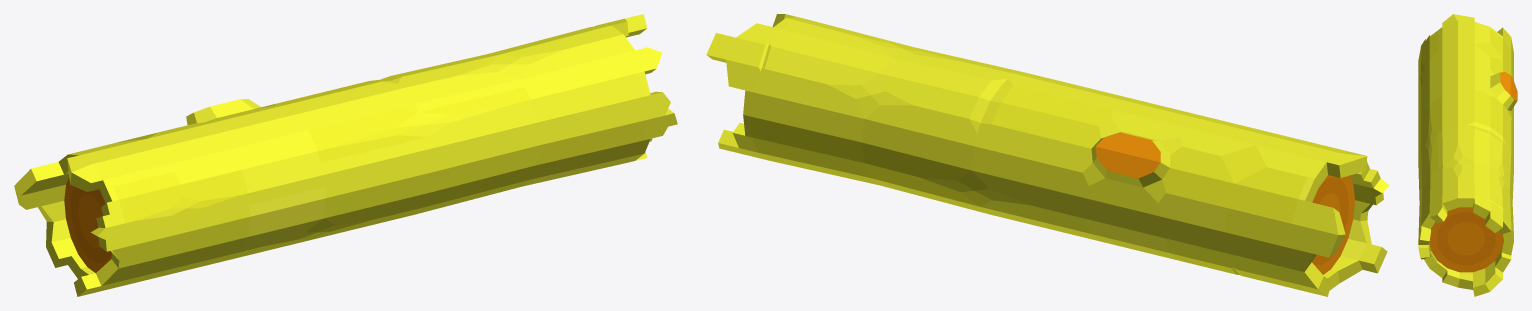
File: Log_12.fbx
3 renders of one model, left to right at view 1: azimuth 30°, elevation 25°; view 2: azimuth 150°, elevation 25°; view 3: azimuth 270°, elevation 25°, orthographic. The views are drawn at different scales.
Parts seen in each view (by area): view 1: Circle.296; view 2: Circle.296; view 3: Circle.296.
Boxes of the visible parts, box(x1,y1,x2,y2) form: Circle.296: box(14, 14, 677, 296); Circle.296: box(706, 14, 1389, 296); Circle.296: box(1418, 14, 1517, 296).
Bounding box in the file's own units: 105 × 20.44 × 21.48.
